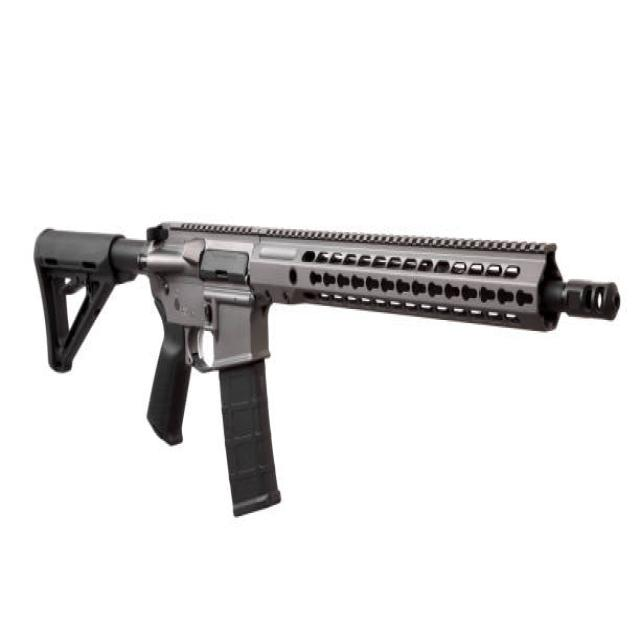rifle: (23, 184, 625, 527)
